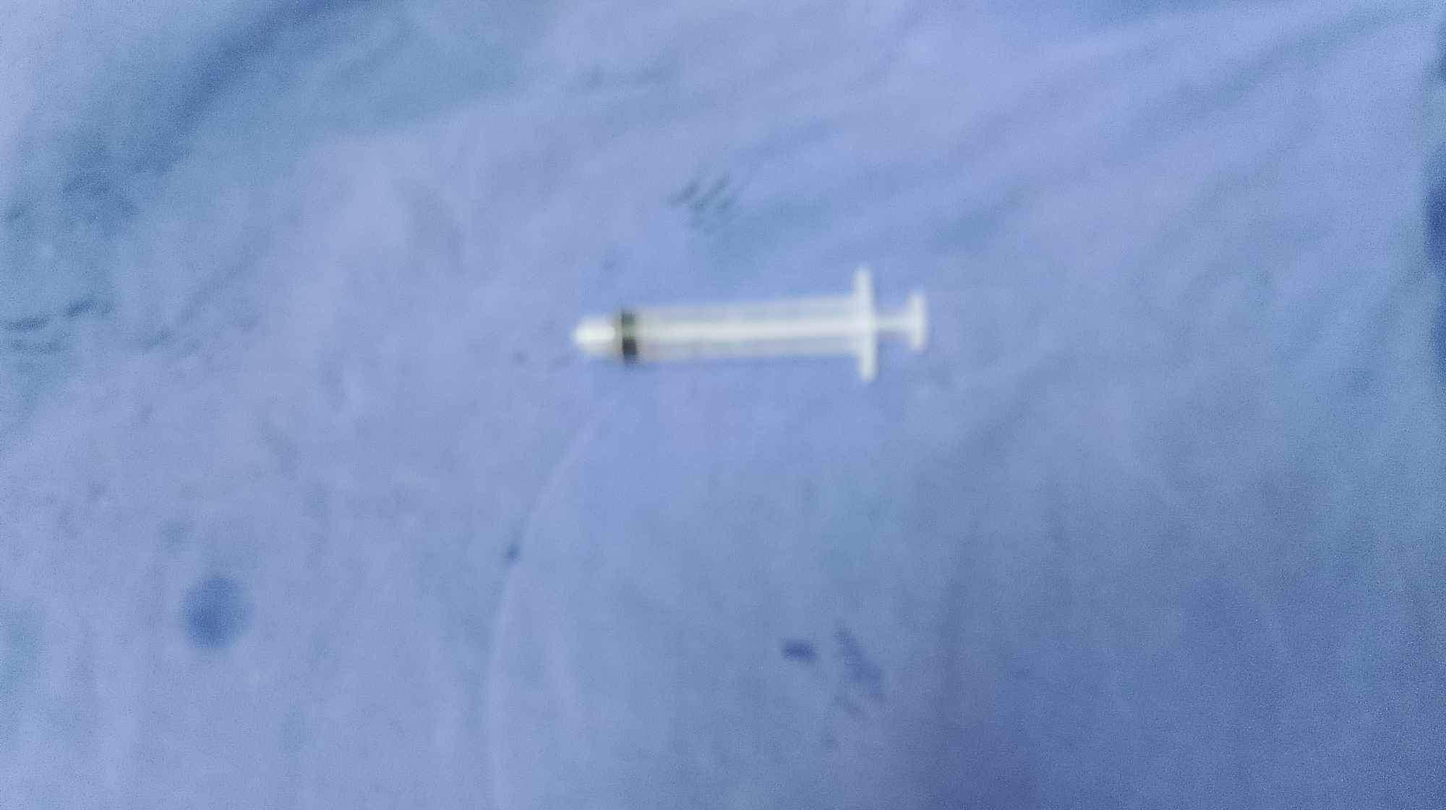General: (6, 4, 1438, 804)
Sharps: (572, 265, 931, 384)
